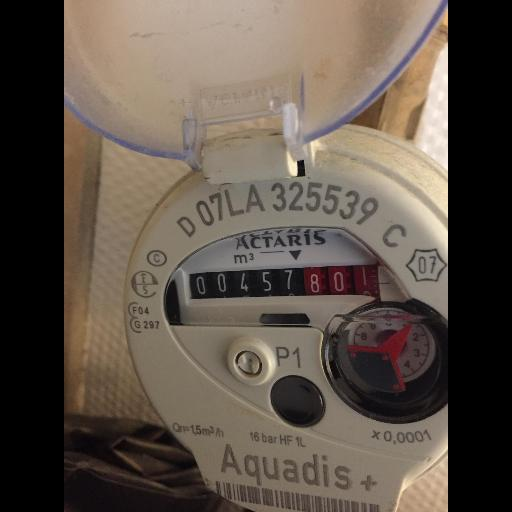0: (326, 265, 355, 296), (211, 271, 236, 300), (189, 272, 213, 301)
1: (353, 263, 380, 299)
4: (234, 269, 257, 299)
5: (253, 268, 279, 298)
7: (278, 267, 307, 298)
8: (304, 266, 327, 296)
border_water_meter_number: (183, 259, 381, 315)
